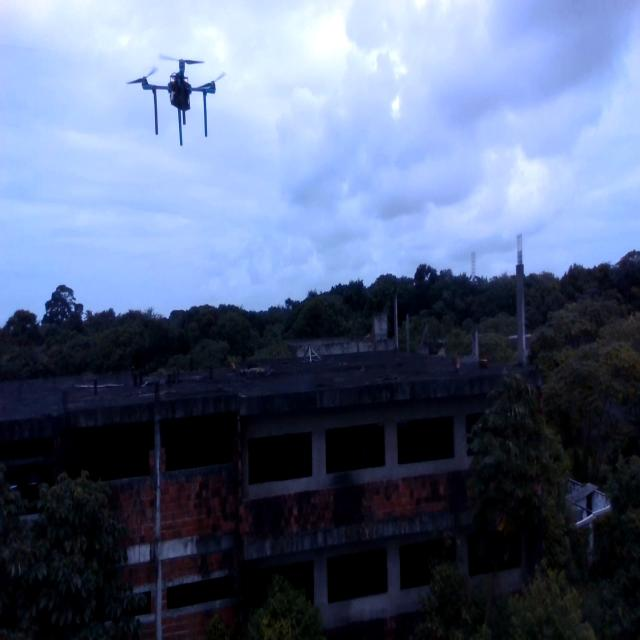-uav-: (127, 44, 233, 163)
